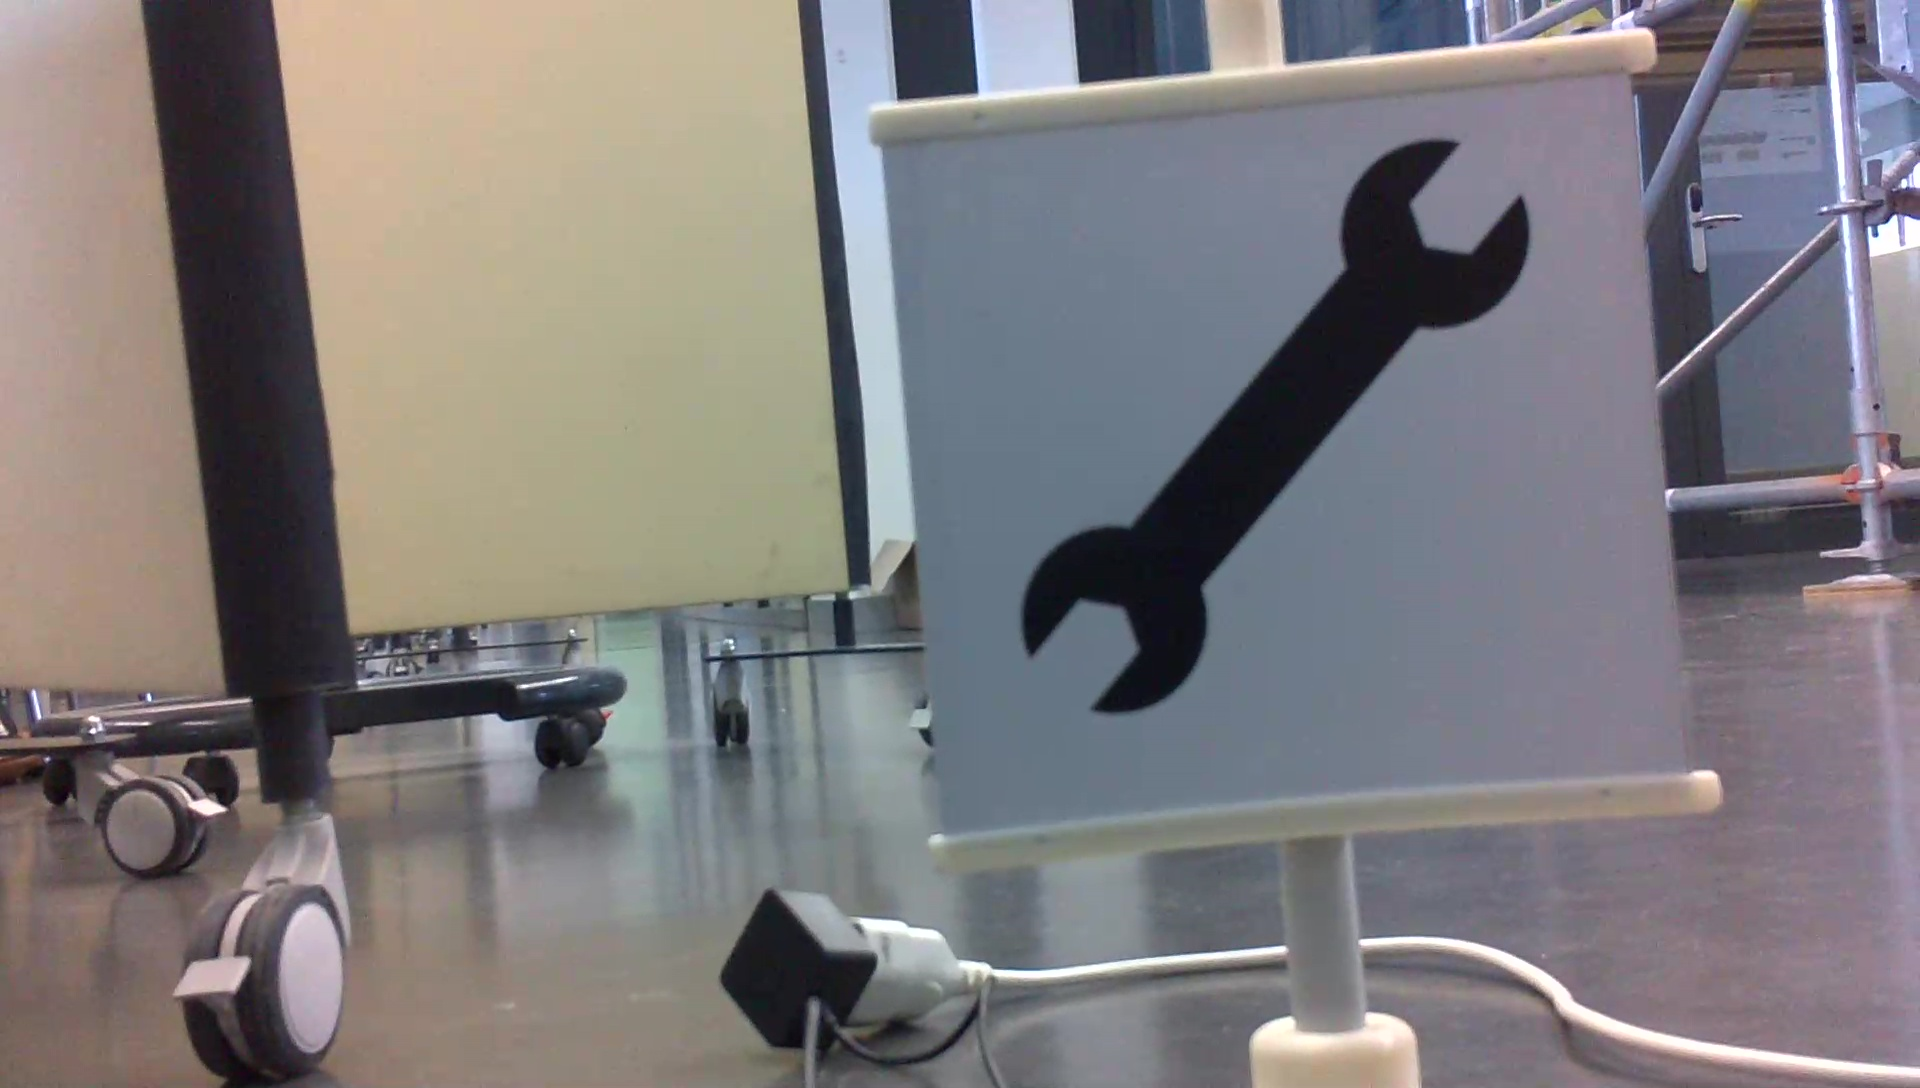wrench: (1002, 129, 1538, 723)
